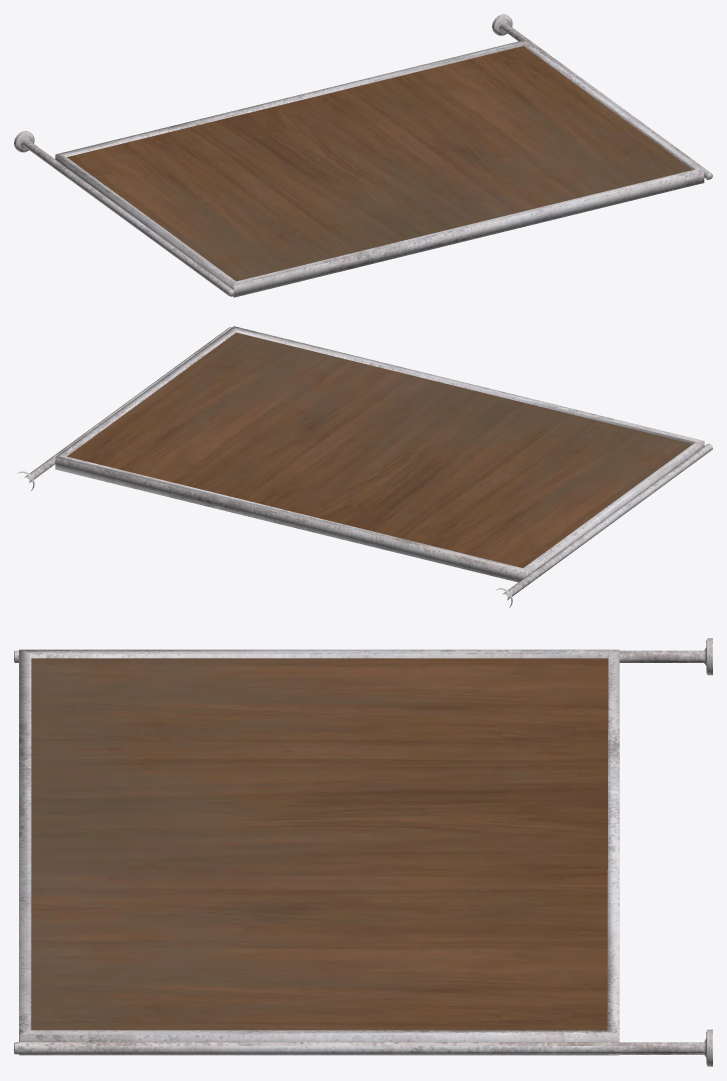
File: cubicle_wall_200.glb
The picture shows the model from 3 angles, top to bottom: view 1: azimuth 30°, elevation 25°; view 2: azimuth 150°, elevation 25°; view 3: azimuth 270°, elevation 25°; orthographic projection. The views are drawn at different scales.
Visible parts, largest first — view 1: cubicle_wall_200; view 2: cubicle_wall_200; view 3: cubicle_wall_200.
Boxes of the visible parts, x1,y1,x2,y2 form: cubicle_wall_200: [14, 14, 712, 297]; cubicle_wall_200: [17, 326, 712, 607]; cubicle_wall_200: [14, 638, 712, 1066].
Size of the model in its own units: 2.08 by 0.08 by 1.51.
Materials: 1 (1 with a texture image).
